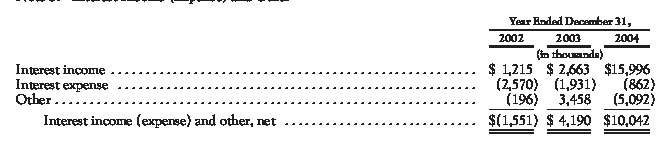table: (0, 0, 670, 156)
